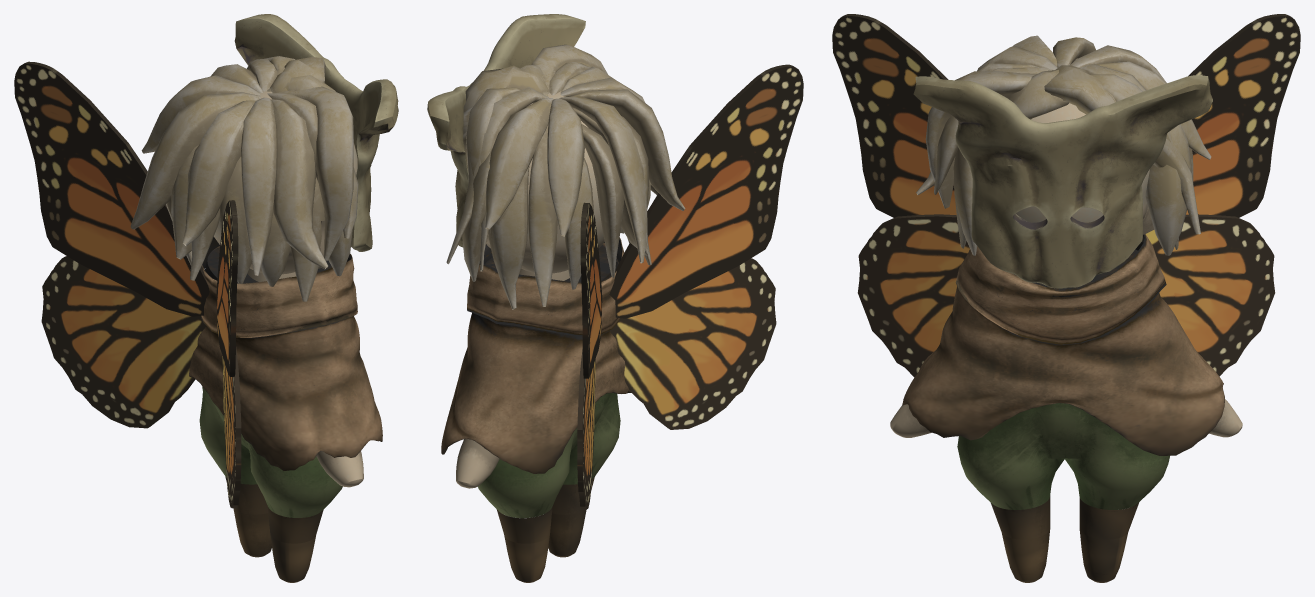
Rendered from Child 3.fbx.
The picture shows the model from 3 angles, left to right: view 1: azimuth 30°, elevation 25°; view 2: azimuth 150°, elevation 25°; view 3: azimuth 270°, elevation 25°; orthographic projection. The views are drawn at different scales.
Parts seen in each view (by area): view 1: NurbsPath.082, Cube.096, Cylinder.160, Cube.095, Cube.091, Cylinder.161, Cylinder.159, Cube.098, Cylinder.157, Cube.097, Cylinder.158, Cylinder.153 (+1 smaller); view 2: NurbsPath.082, Cube.098, Cylinder.160, Cube.097, Cylinder.161, Cube.091, Cylinder.159, Cube.096, Cylinder.158, Cube.095, Cylinder.157, Sphere.036 (+1 smaller); view 3: Cube.091, Cylinder.160, NurbsPath.082, Cylinder.159, Cube.096, Cube.098, Cube.095, Cube.097, Cylinder.161, Cylinder.157, Cylinder.158, Sphere.036 (+2 smaller).
Boxes of the visible parts, bbox=[...] form: NurbsPath.082: bbox=[130, 56, 358, 301]; Cube.096: bbox=[14, 61, 209, 316]; Cylinder.160: bbox=[189, 246, 382, 470]; Cube.095: bbox=[41, 256, 211, 428]; Cube.091: bbox=[234, 14, 398, 251]; Cylinder.161: bbox=[201, 237, 357, 337]; Cylinder.159: bbox=[199, 387, 342, 517]; Cube.098: bbox=[216, 200, 238, 376]; Cylinder.157: bbox=[267, 506, 323, 582]; Cube.097: bbox=[222, 347, 241, 508]; Cylinder.158: bbox=[225, 476, 271, 557]; Cylinder.153: bbox=[316, 451, 363, 487]; NurbsPath.082: bbox=[446, 44, 685, 309]; Cube.098: bbox=[609, 64, 803, 318]; Cylinder.160: bbox=[441, 243, 631, 473]; Cube.097: bbox=[610, 258, 776, 429]; Cylinder.161: bbox=[467, 237, 624, 336]; Cube.091: bbox=[427, 14, 585, 247]; Cylinder.159: bbox=[478, 393, 620, 518]; Cube.096: bbox=[580, 202, 602, 378]; Cylinder.158: bbox=[496, 507, 552, 582]; Cube.095: bbox=[577, 349, 595, 509]; Cylinder.157: bbox=[548, 477, 594, 557]; Sphere.036: bbox=[486, 91, 604, 273]; Cube.091: bbox=[913, 75, 1212, 288]; Cylinder.160: bbox=[902, 249, 1224, 455]; NurbsPath.082: bbox=[916, 35, 1211, 255]; Cylinder.159: bbox=[957, 403, 1169, 509]; Cube.096: bbox=[1186, 14, 1300, 217]; Cube.098: bbox=[832, 14, 956, 217]; Cube.095: bbox=[1145, 214, 1275, 376]; Cube.097: bbox=[857, 214, 969, 377]; Cylinder.161: bbox=[955, 234, 1166, 344]; Cylinder.157: bbox=[991, 496, 1050, 582]; Cylinder.158: bbox=[1079, 498, 1138, 582]; Sphere.036: bbox=[1016, 103, 1154, 234].
Bounding box in the file's own units: 204 × 426 × 339.
